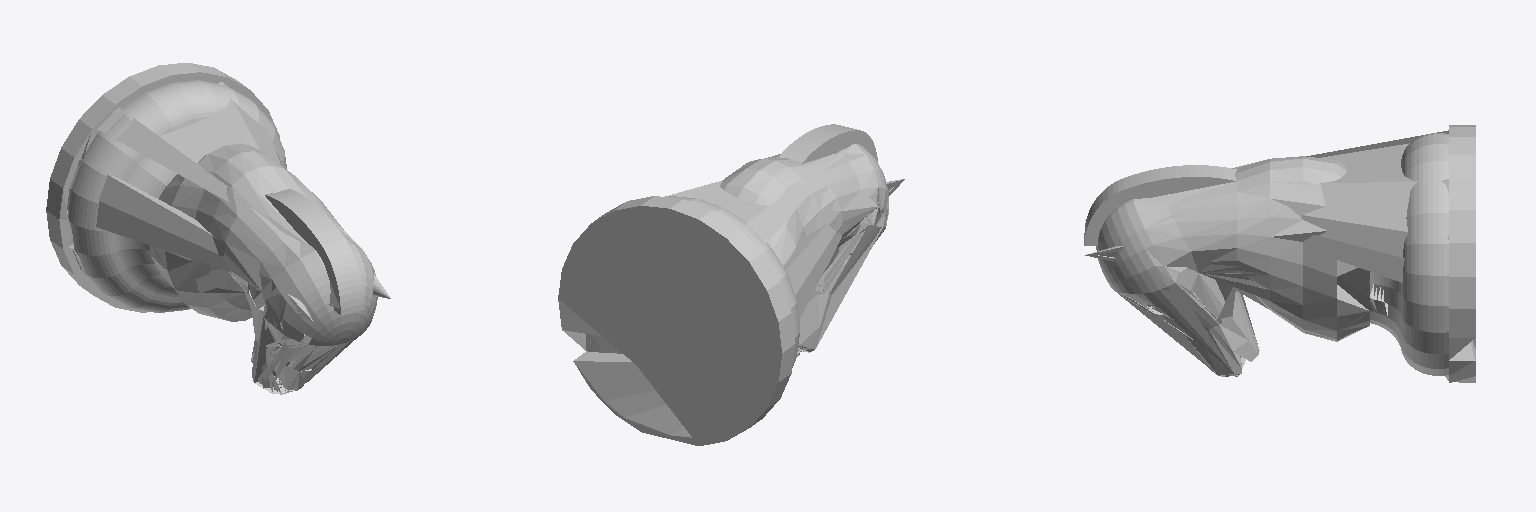
Rendered from testtest.obj.
3 views of the same model, side by side, from view 1: azimuth 30°, elevation 25°; view 2: azimuth 150°, elevation 25°; view 3: azimuth 270°, elevation 25° (orthographic).
Parts seen in each view (by area): view 1: object_5, object_13, object_12, object_11, object_3; view 2: object_5, object_4, object_13, object_12, object_11, object_3; view 3: object_5, object_12, object_13, object_3, object_11.
Boxes of the visible parts, x1=… form: object_5: x1=46, y1=63, x2=377, y2=394; object_13: x1=59, y1=73, x2=365, y2=394; object_12: x1=97, y1=82, x2=314, y2=249; object_11: x1=67, y1=159, x2=340, y2=308; object_3: x1=265, y1=189, x2=364, y2=314; object_5: x1=558, y1=144, x2=888, y2=445; object_4: x1=558, y1=206, x2=781, y2=352; object_13: x1=562, y1=144, x2=885, y2=445; object_12: x1=617, y1=144, x2=852, y2=259; object_11: x1=784, y1=127, x2=877, y2=319; object_3: x1=779, y1=124, x2=877, y2=162; object_5: x1=1096, y1=125, x2=1475, y2=382; object_12: x1=1302, y1=130, x2=1448, y2=282; object_13: x1=1101, y1=159, x2=1475, y2=380; object_3: x1=1084, y1=165, x2=1236, y2=245; object_11: x1=1085, y1=170, x2=1237, y2=245.
Size of the model in its own units: 99.14 by 100 by 150.